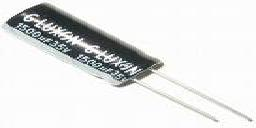Electrolytic-Capacitor: (6, 4, 256, 125)
